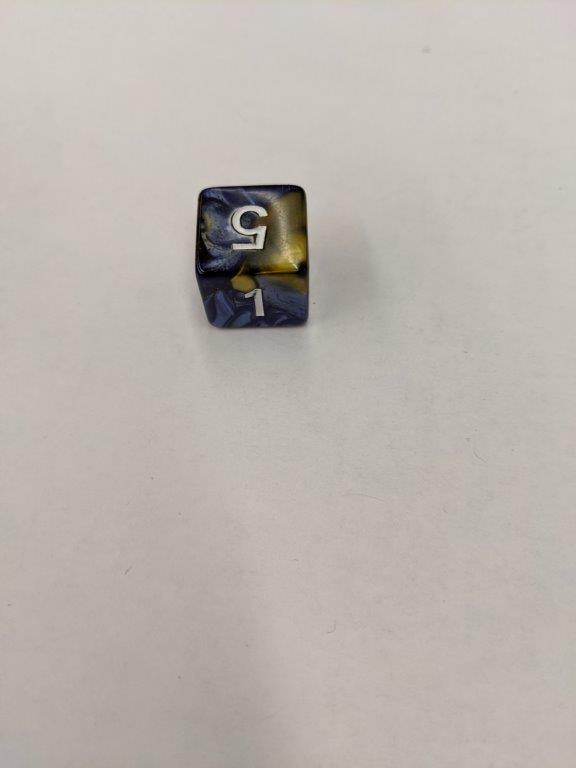d6-5: (194, 183, 314, 331)
